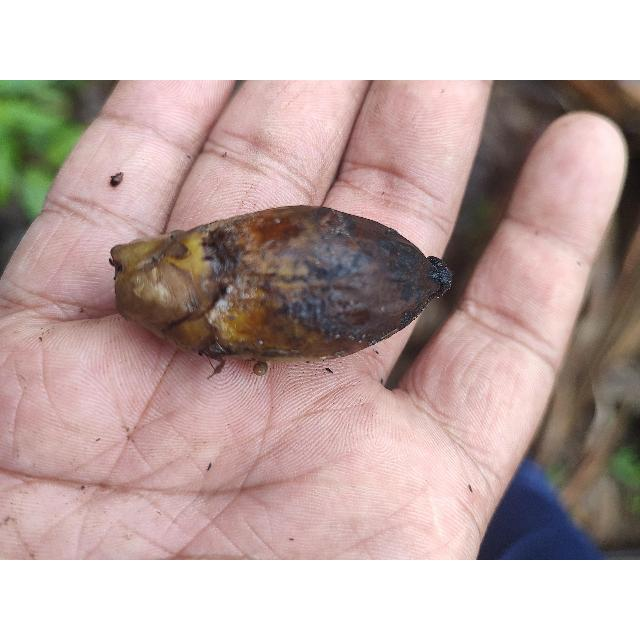damaged: (108, 205, 454, 368)
